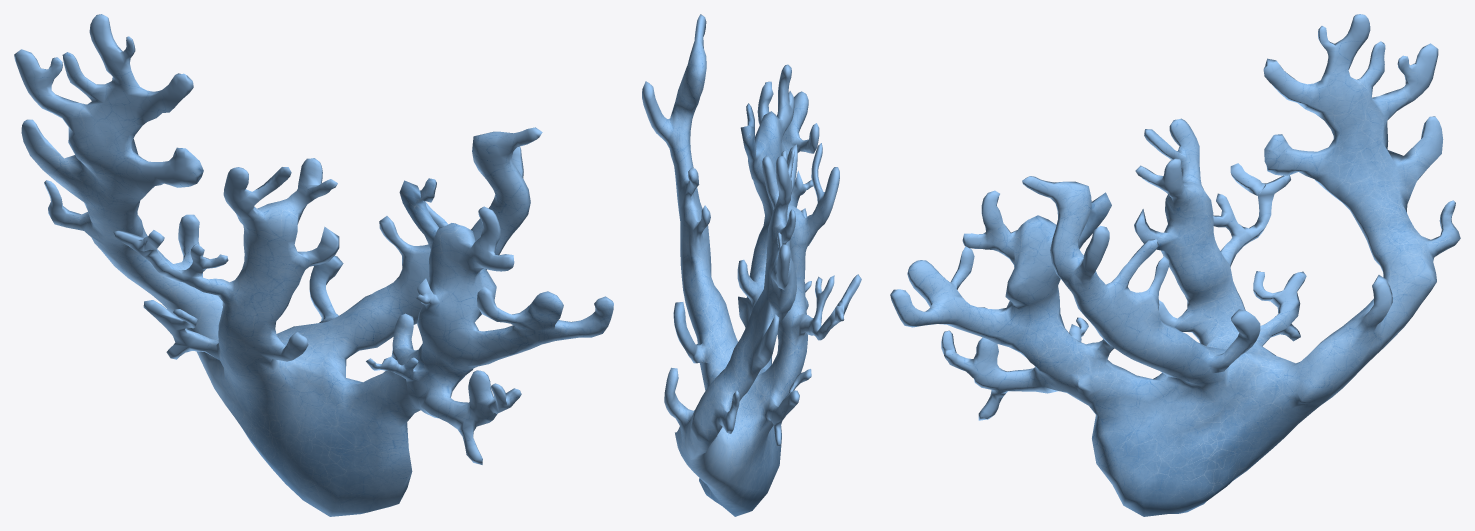
Rendered from BlueCoral.fbx.
3 views of the same model, side by side, from view 1: azimuth 30°, elevation 25°; view 2: azimuth 150°, elevation 25°; view 3: azimuth 270°, elevation 25° (orthographic). The views are drawn at different scales.
Parts seen in each view (by area): view 1: Object_9.127; view 2: Object_9.127; view 3: Object_9.127.
Boxes of the visible parts, x1,y1,x2,y2 form: Object_9.127: (14,14,613,516); Object_9.127: (642,14,861,516); Object_9.127: (890,14,1460,516).
Bounding box in the file's own units: 22932 × 31208 × 37044.
Materials: 1 (1 with a texture image).
